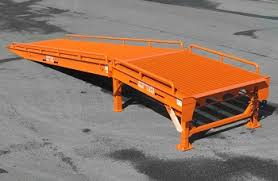Yard Ramp: (4, 34, 272, 116)
